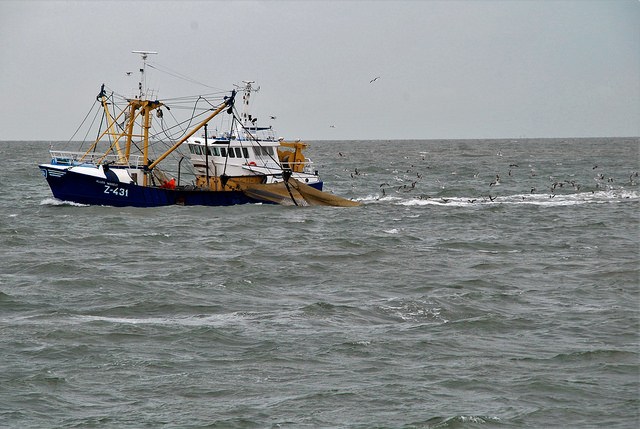fishing_boat: (38, 50, 359, 212)
